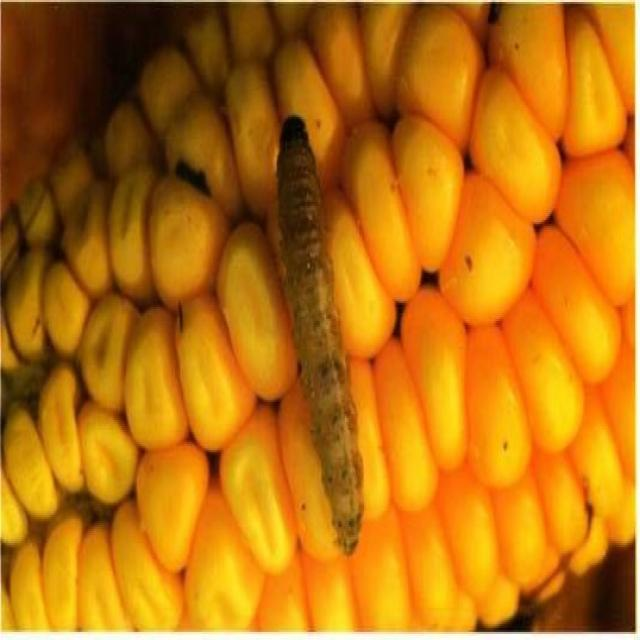peach borer: (265, 111, 367, 565)
